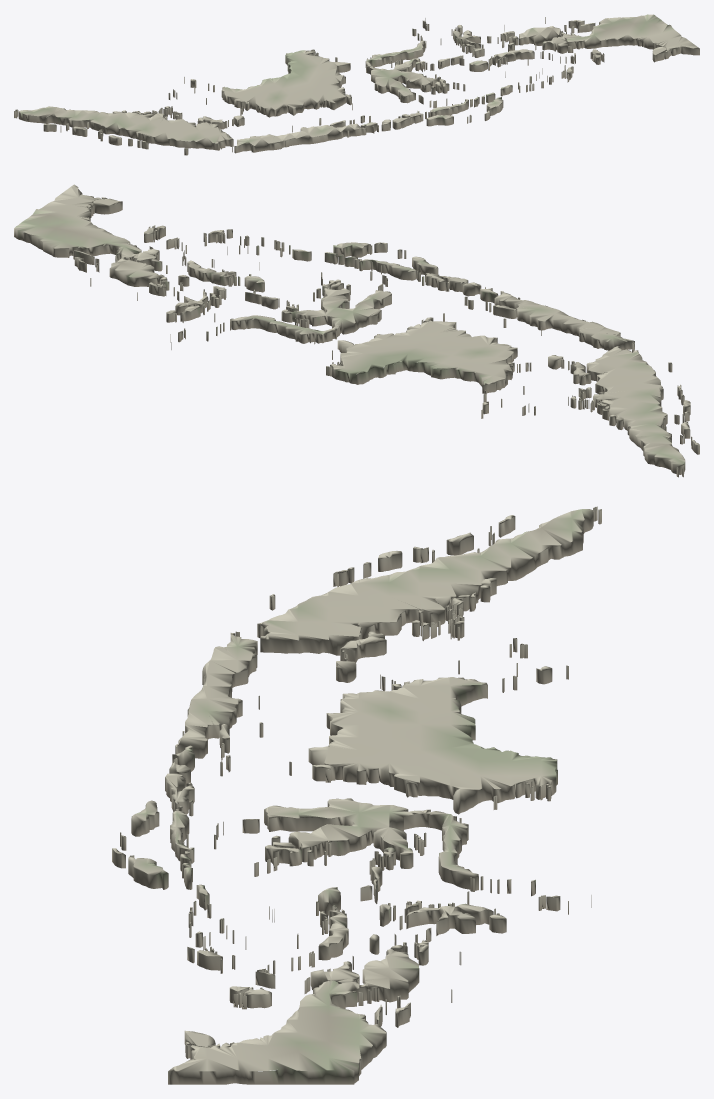
The model's file is id-mobile.glb.
The picture shows the model from 3 angles, top to bottom: view 1: azimuth 30°, elevation 25°; view 2: azimuth 150°, elevation 25°; view 3: azimuth 270°, elevation 25°; orthographic projection. The views are drawn at different scales.
Size of the model in its own units: 100 by 1.65 by 36.67.
